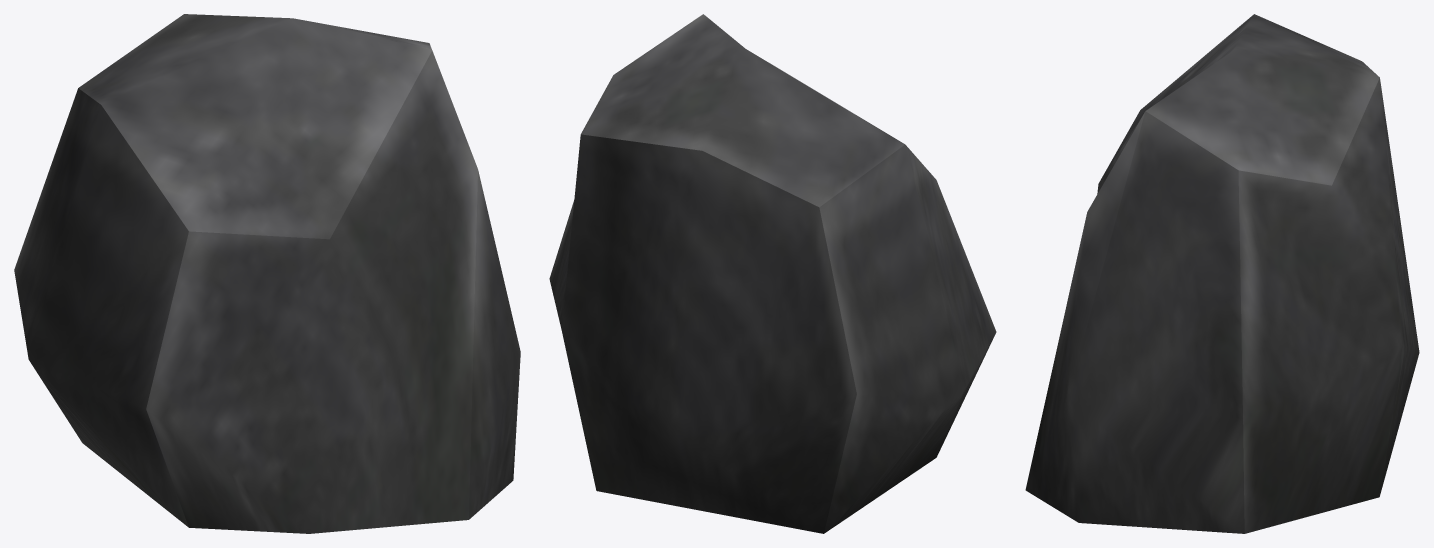
Rendered from modelRock08.fbx.
The picture shows the model from 3 angles, left to right: view 1: azimuth 30°, elevation 25°; view 2: azimuth 150°, elevation 25°; view 3: azimuth 270°, elevation 25°; orthographic projection. The views are drawn at different scales.
Visible parts, largest first — view 1: modelRock08; view 2: modelRock08; view 3: modelRock08.
Part boxes in pixels (x1=…): modelRock08: x1=14, y1=14, x2=520, y2=533; modelRock08: x1=549, y1=14, x2=996, y2=533; modelRock08: x1=1025, y1=14, x2=1419, y2=533.
Bounding box in the file's own units: 6.89 × 6.34 × 5.52.
